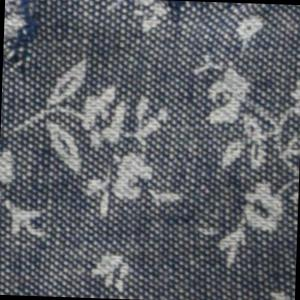Damage: (3, 1, 50, 91)
